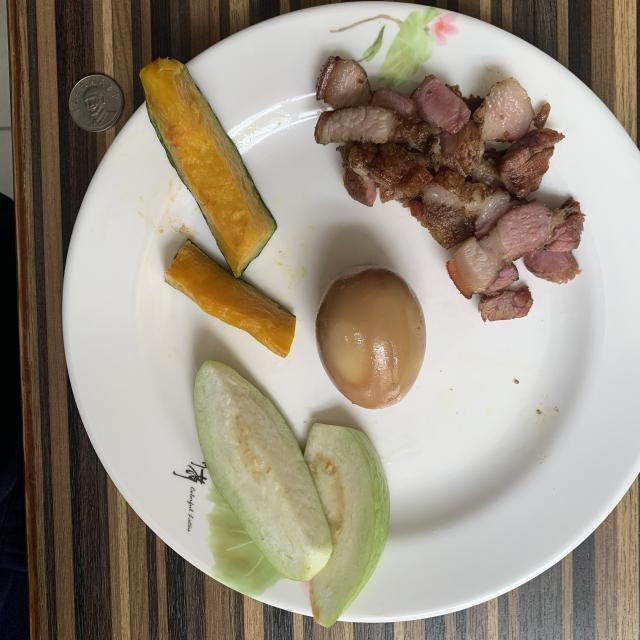coin: (69, 75, 122, 132)
grilled pork: (315, 58, 584, 320)
guava -sliced-: (194, 361, 390, 626)
pumpkin: (140, 59, 295, 358)
soy egg: (316, 265, 426, 409)
